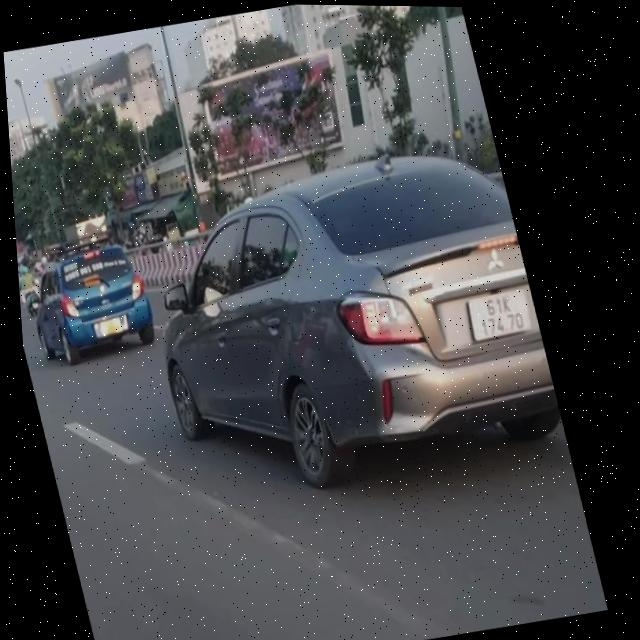car: (119, 129, 575, 522), (15, 229, 168, 369)
plate: (454, 281, 538, 348), (88, 310, 137, 343)
